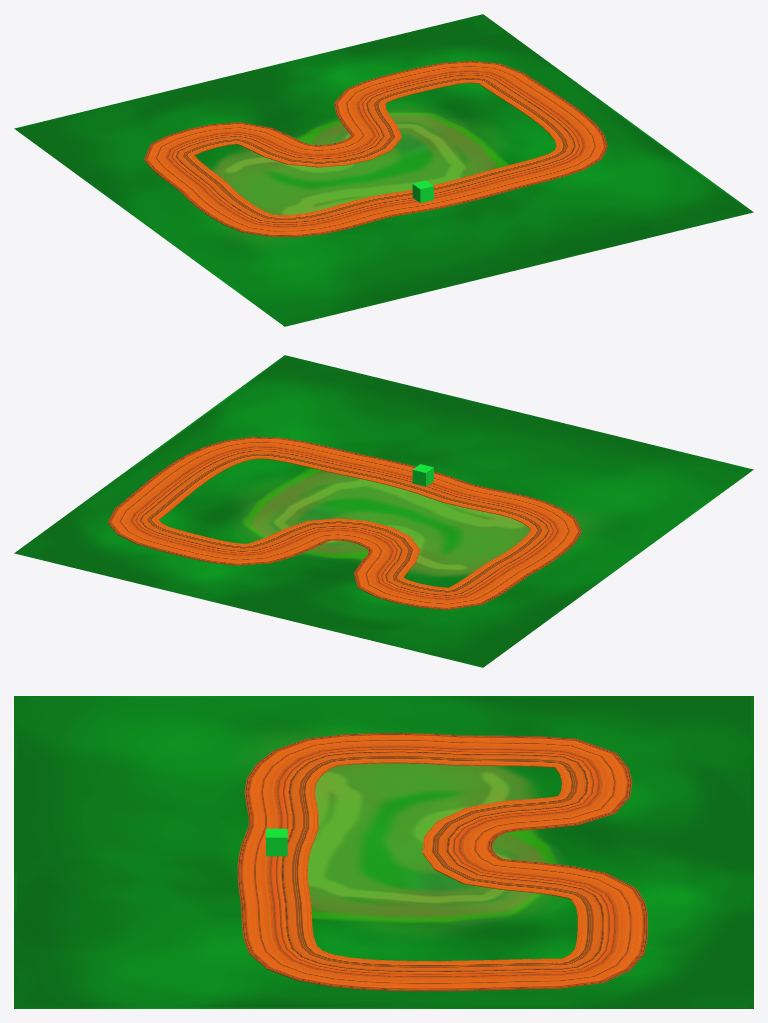
File: projekt.gltf
3 renders of one model, top to bottom at view 1: azimuth 30°, elevation 25°; view 2: azimuth 150°, elevation 25°; view 3: azimuth 270°, elevation 25°, orthographic. The views are drawn at different scales.
Parts seen in each view (by area): view 1: Plane, Road; view 2: Plane, Road; view 3: Plane, Road, Cube.
Part boxes in pixels (x1=…): Plane: x1=14, y1=14, x2=753, y2=326; Road: x1=144, y1=61, x2=607, y2=236; Plane: x1=14, y1=355, x2=753, y2=667; Road: x1=107, y1=437, x2=581, y2=609; Plane: x1=14, y1=696, x2=753, y2=1008; Road: x1=237, y1=733, x2=647, y2=991; Cube: x1=266, y1=828, x2=287, y2=856.
Size of the model in its own units: 69.04 by 2.1 by 69.04.
3 materials, 3 textured.
